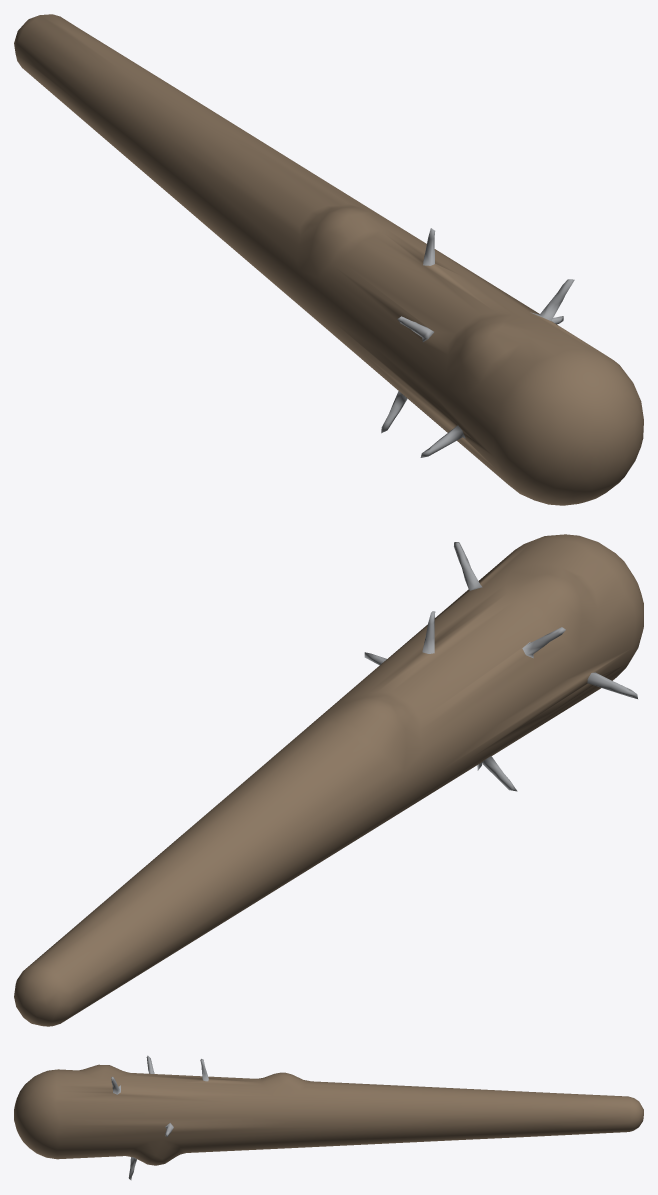
Rendered from Club.fbx.
The picture shows the model from 3 angles, top to bottom: view 1: azimuth 30°, elevation 25°; view 2: azimuth 150°, elevation 25°; view 3: azimuth 270°, elevation 25°; orthographic projection. The views are drawn at different scales.
Parts seen in each view (by area): view 1: Club; view 2: Club; view 3: Club.
Part boxes in pixels (left/top/right/bottom): Club: left=14, top=14, right=643, bottom=505; Club: left=14, top=534, right=643, bottom=1026; Club: left=14, top=1055, right=643, bottom=1180.
Bounding box in the file's own units: 8.85 × 8.58 × 42.17.
